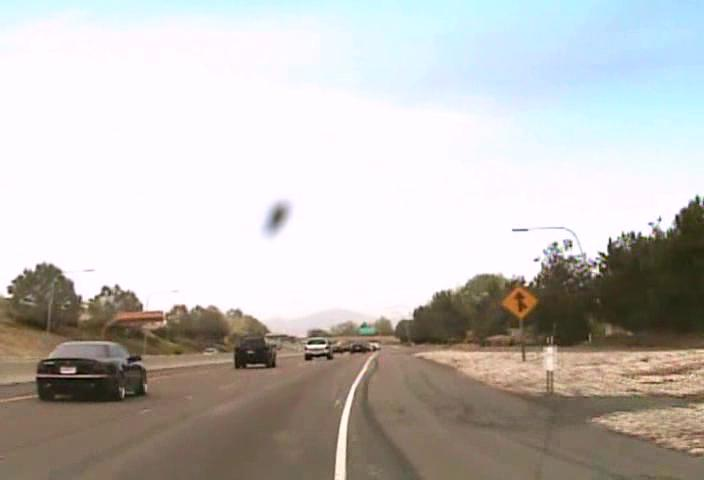merge: (500, 284, 538, 320)
